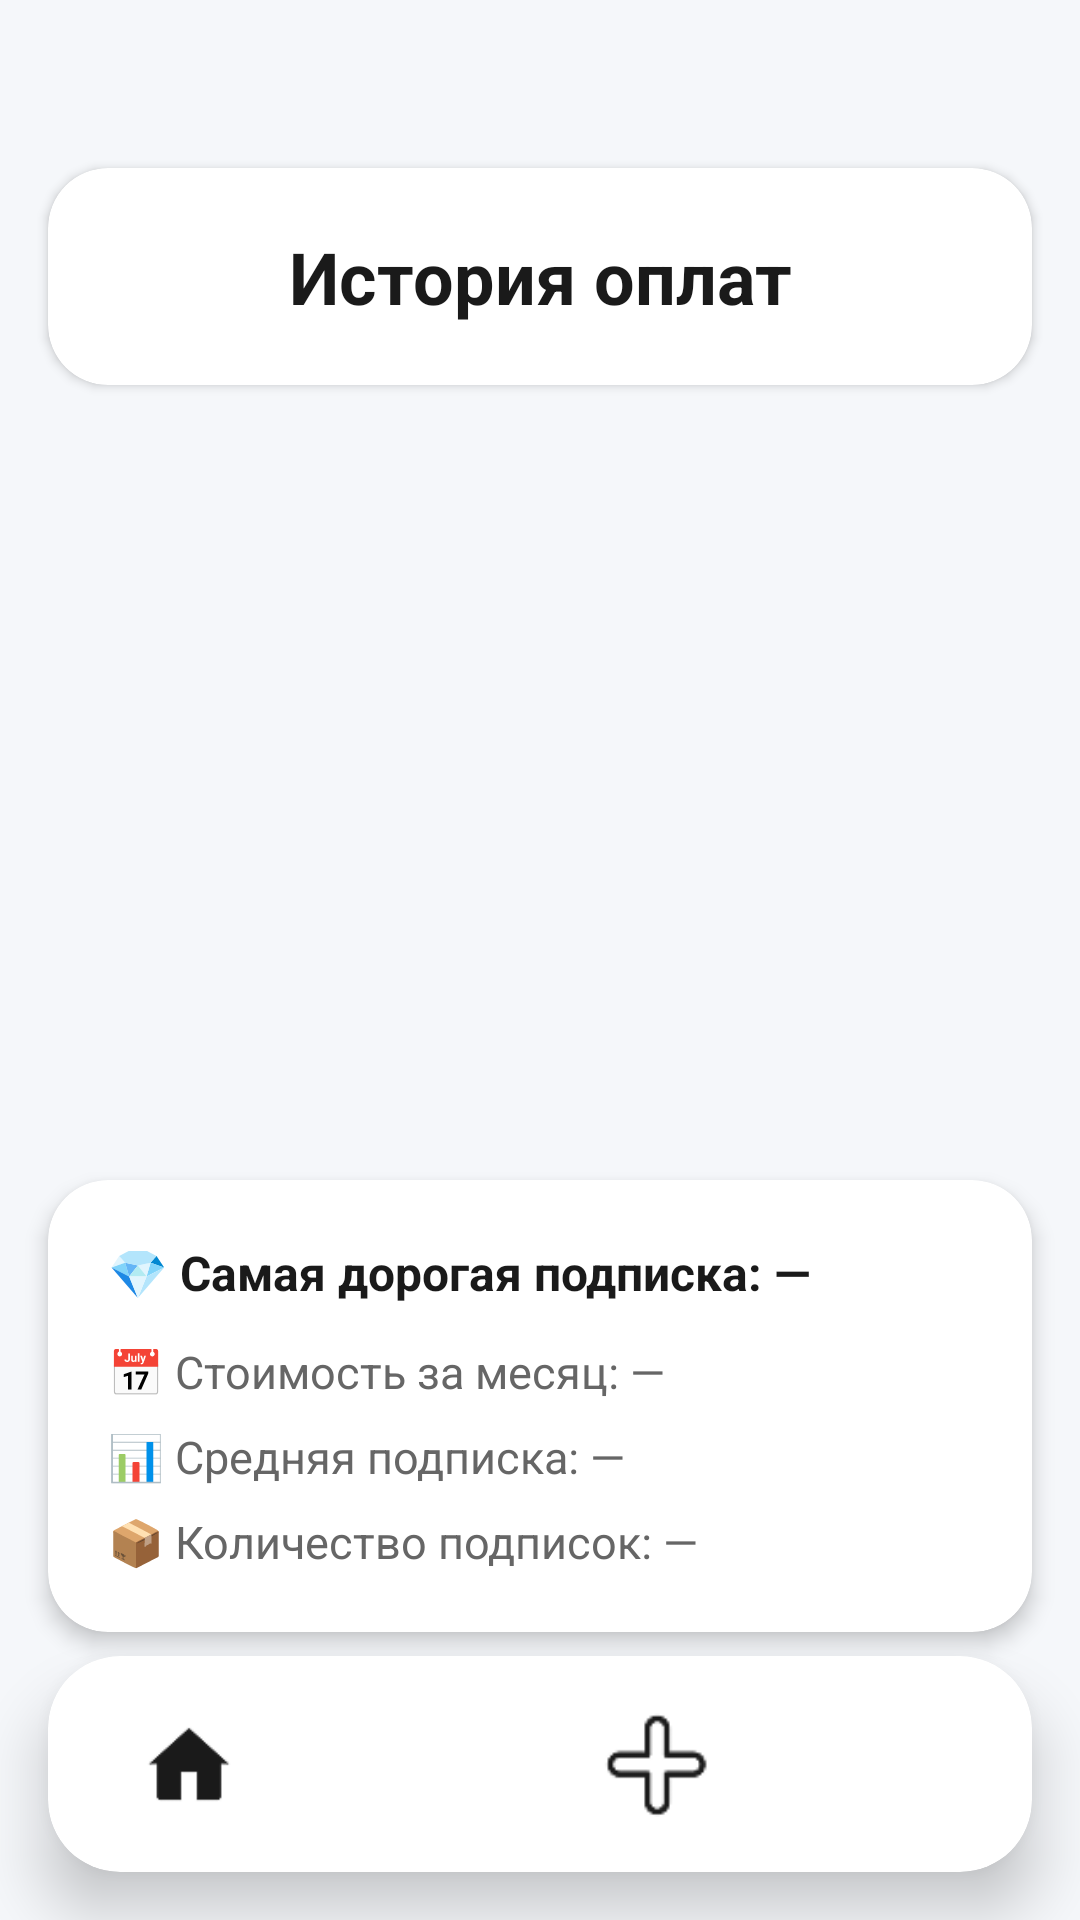

Icon bounding boxes for this 1080*1920 phone screenshot, format bbox=[x1, y1, x2, y2]:
Добавить подписку: bbox=[607, 1715, 707, 1815]
Дом: bbox=[149, 1728, 229, 1801]
